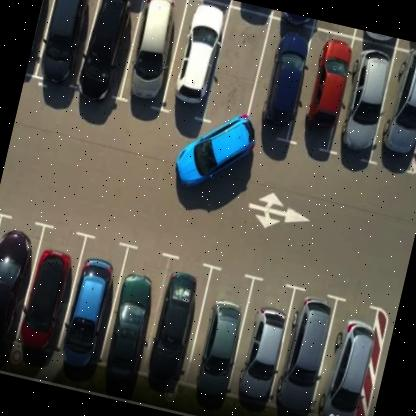Car: (271, 287, 343, 416), (53, 248, 123, 378), (13, 238, 79, 362), (170, 106, 258, 195), (314, 307, 381, 416), (100, 260, 156, 390), (141, 268, 200, 390), (228, 299, 287, 411), (123, 0, 181, 111), (190, 290, 245, 406), (336, 40, 392, 152), (255, 22, 317, 121), (172, 3, 230, 107), (72, 0, 136, 94), (39, 0, 93, 96), (305, 35, 355, 137), (0, 224, 35, 362), (380, 46, 416, 171)
Empty: (205, 6, 272, 122)
